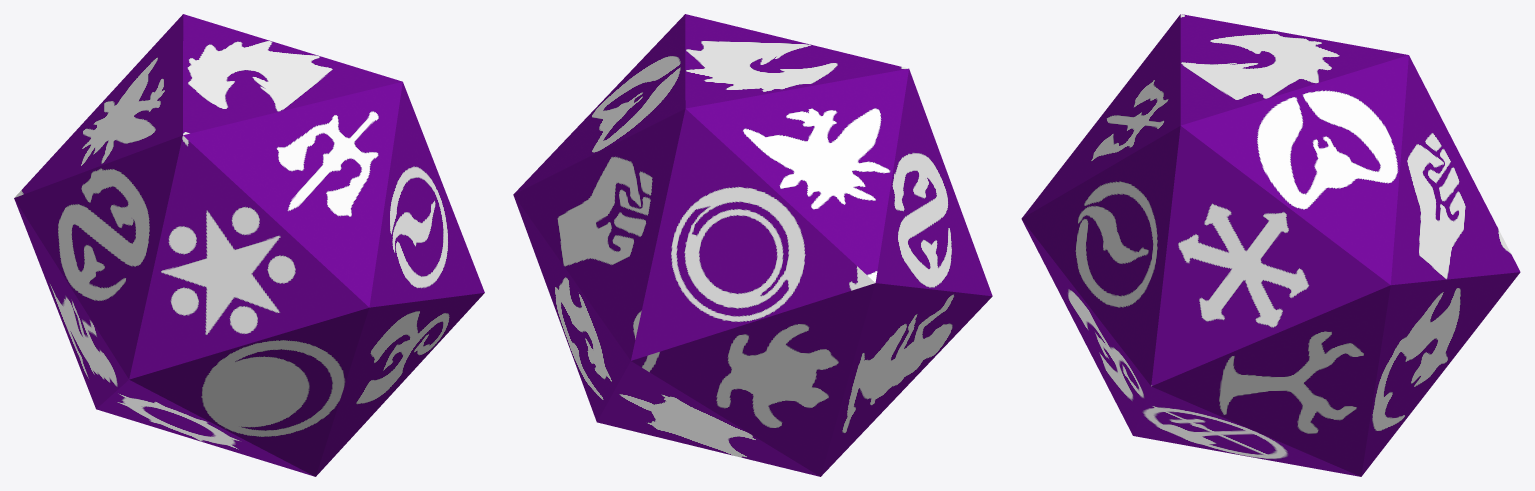
The model's file is reduced.glb.
3 views of the same model, side by side, from view 1: azimuth 30°, elevation 25°; view 2: azimuth 150°, elevation 25°; view 3: azimuth 270°, elevation 25° (orthographic). The views are drawn at different scales.
Visible parts, largest first — view 1: blank_d20; view 2: blank_d20; view 3: blank_d20.
Part boxes in pixels (bbox=[...]): blank_d20: bbox=[14, 14, 484, 476]; blank_d20: bbox=[513, 14, 992, 476]; blank_d20: bbox=[1021, 14, 1520, 476].
Bounding box in the file's own units: 55.91 × 54.94 × 65.27.
1 material, 1 textured.
